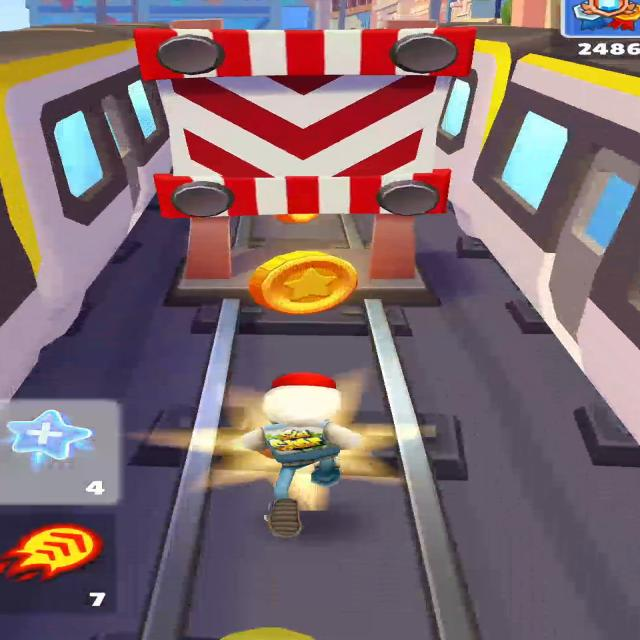jump-barrier: (135, 27, 475, 279)
train: (448, 51, 640, 457), (0, 24, 170, 397), (435, 24, 556, 197)
